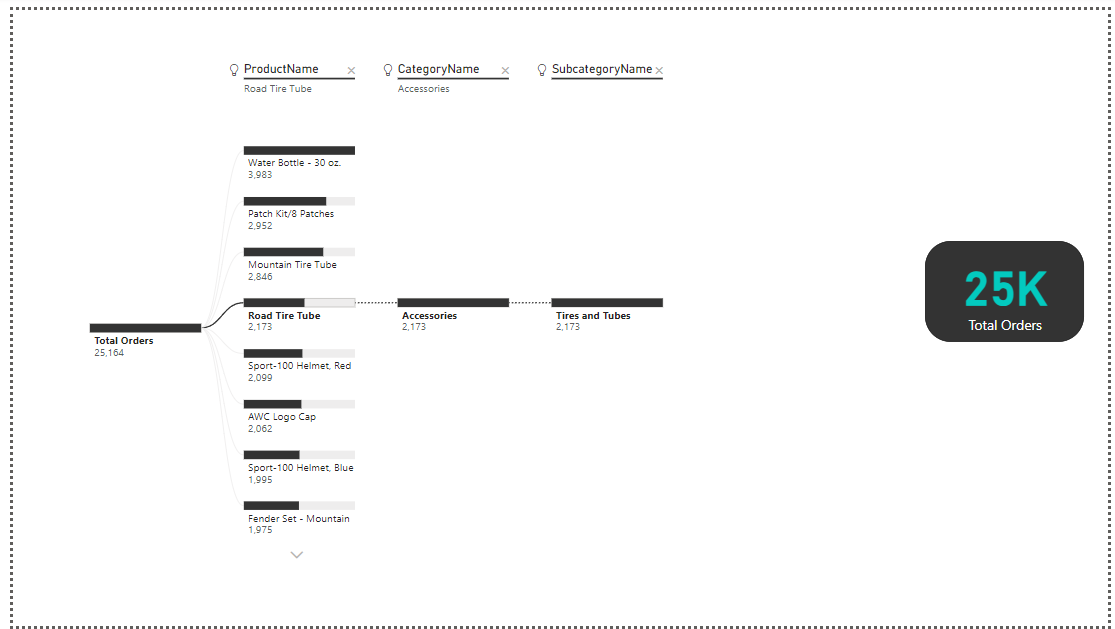

This screenshot's page, from the dashboard's own definition file:
{"tool":"powerbi","page":{"name":"Decomposition Tree","canvas":[1280,720],"ordinal":6},"visuals":[{"type":"decompositionTreeVisual","fields":{"Analyze":["Measure Table.Total Orders"],"ExplainBy":["Product Lookup.ProductName","Product Categories Lookup.CategoryName","Product Subcategories Lookup.SubcategoryName"]},"box":[60.4,43.8,962.5,633.3],"z":0},{"type":"card","fields":{"Values":["Measure Table.Total Orders"]},"box":[1066,271,186.2,118.1],"z":1000}]}

Visuals, with their boxes in screenshot pixels (x1, y1, x2, y2), scaled from the page's 1280x720 canvas onto the 1115x629 screenshot:
decompositionTreeVisual - Measure Table.Total Orders x Product Lookup.ProductName: select_region(53, 38, 891, 592)
card - Measure Table.Total Orders: select_region(929, 237, 1091, 340)
